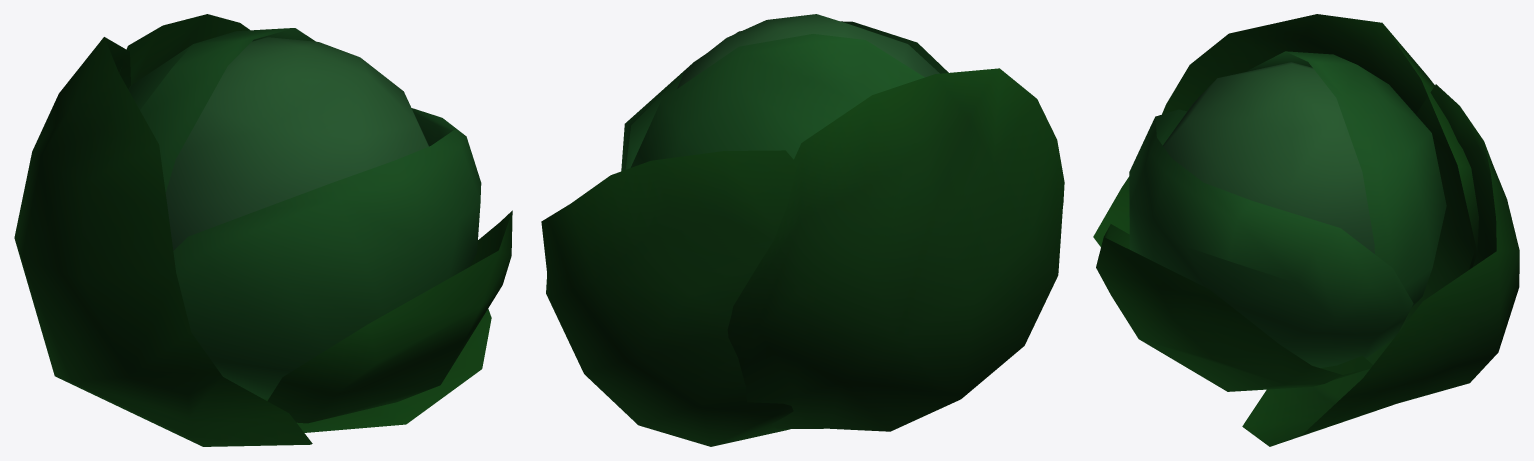
File: Lettuce_Medium.fbx
3 renders of one model, left to right at view 1: azimuth 30°, elevation 25°; view 2: azimuth 150°, elevation 25°; view 3: azimuth 270°, elevation 25°, orthographic. The views are drawn at different scales.
Visible parts, largest first — view 1: Lettuce_Medium; view 2: Lettuce_Medium; view 3: Lettuce_Medium.
Part boxes in pixels (left/top/right/bottom): Lettuce_Medium: left=14, top=14, right=512, bottom=446; Lettuce_Medium: left=541, top=14, right=1064, bottom=446; Lettuce_Medium: left=1093, top=14, right=1519, bottom=446.
Bounding box in the file's own units: 52.1 × 45.08 × 53.16.
